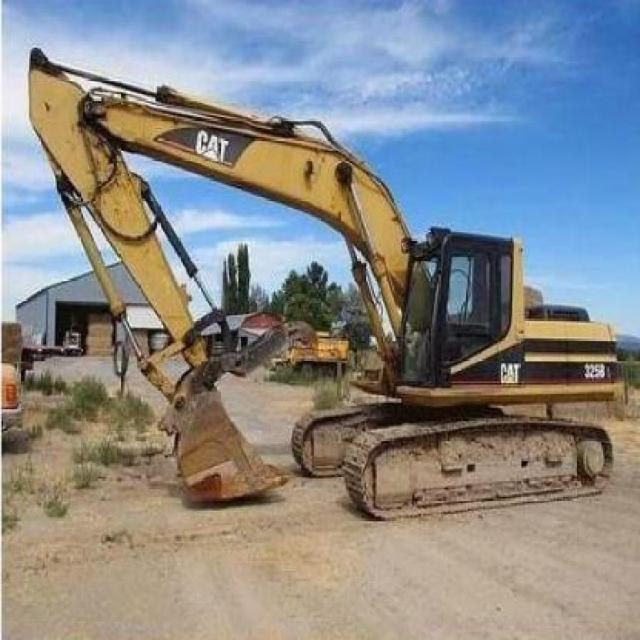Excavator: (23, 39, 625, 518)
